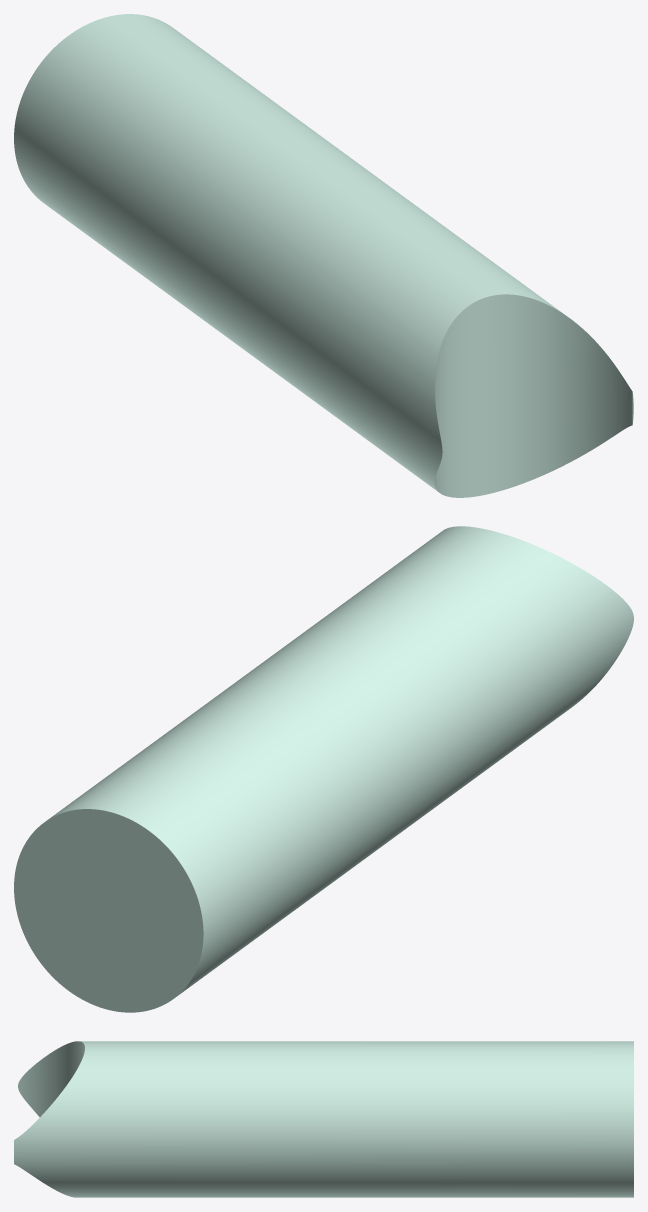
3 renders of one model, top to bottom at view 1: azimuth 30°, elevation 25°; view 2: azimuth 150°, elevation 25°; view 3: azimuth 270°, elevation 25°, orthographic. The views are drawn at different scales.
Visible parts, largest first — view 1: Renderer Node; view 2: Renderer Node; view 3: Renderer Node.
Boxes of the visible parts, <box> form: Renderer Node: <box>14,14,633,497</box>; Renderer Node: <box>14,526,633,1012</box>; Renderer Node: <box>14,1041,633,1197</box>.
Size of the model in its own units: 0.1894 by 0.1895 by 0.75.
